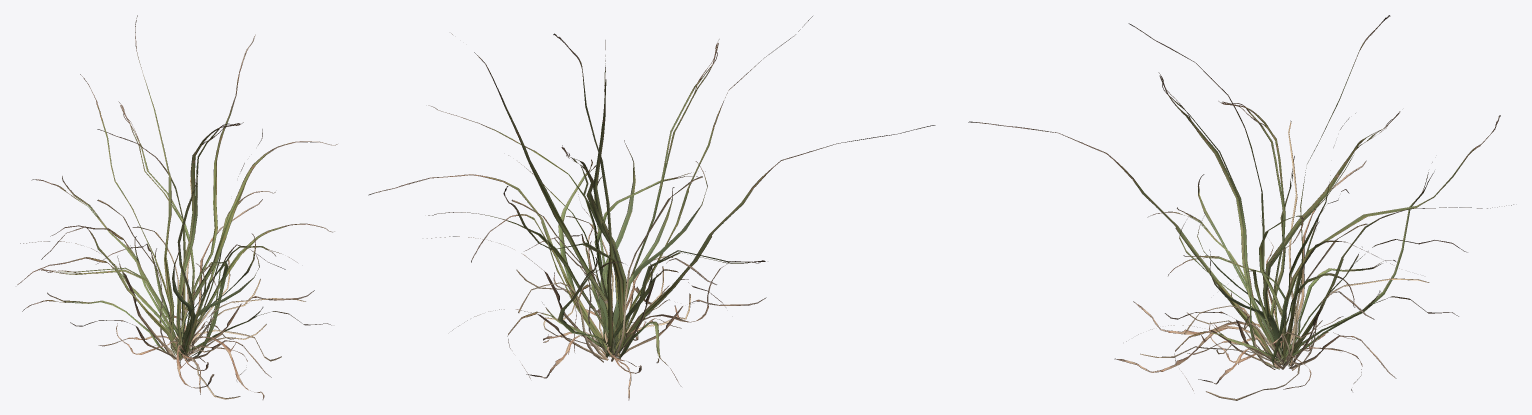
The model's file is UE_grass_medium_02_d.gltf.
The picture shows the model from 3 angles, left to right: view 1: azimuth 30°, elevation 25°; view 2: azimuth 150°, elevation 25°; view 3: azimuth 270°, elevation 25°; orthographic projection. The views are drawn at different scales.
Visible parts, largest first — view 1: grass_medium_02_d; view 2: grass_medium_02_d; view 3: grass_medium_02_d.
Part boxes in pixels (<box>): grass_medium_02_d: <box>17,15,337,399</box>; grass_medium_02_d: <box>368,16,935,400</box>; grass_medium_02_d: <box>968,15,1513,400</box>.
Bounding box in the file's own units: 0.3174 × 0.2604 × 0.3619.
1 material, 1 textured.
